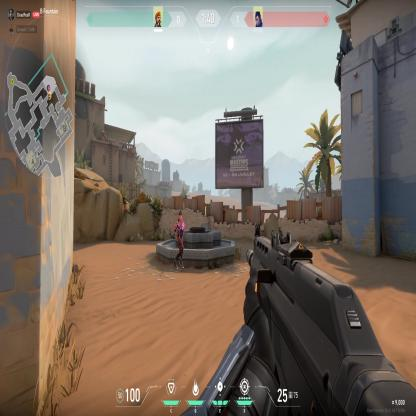enemy: (171, 210, 186, 271)
